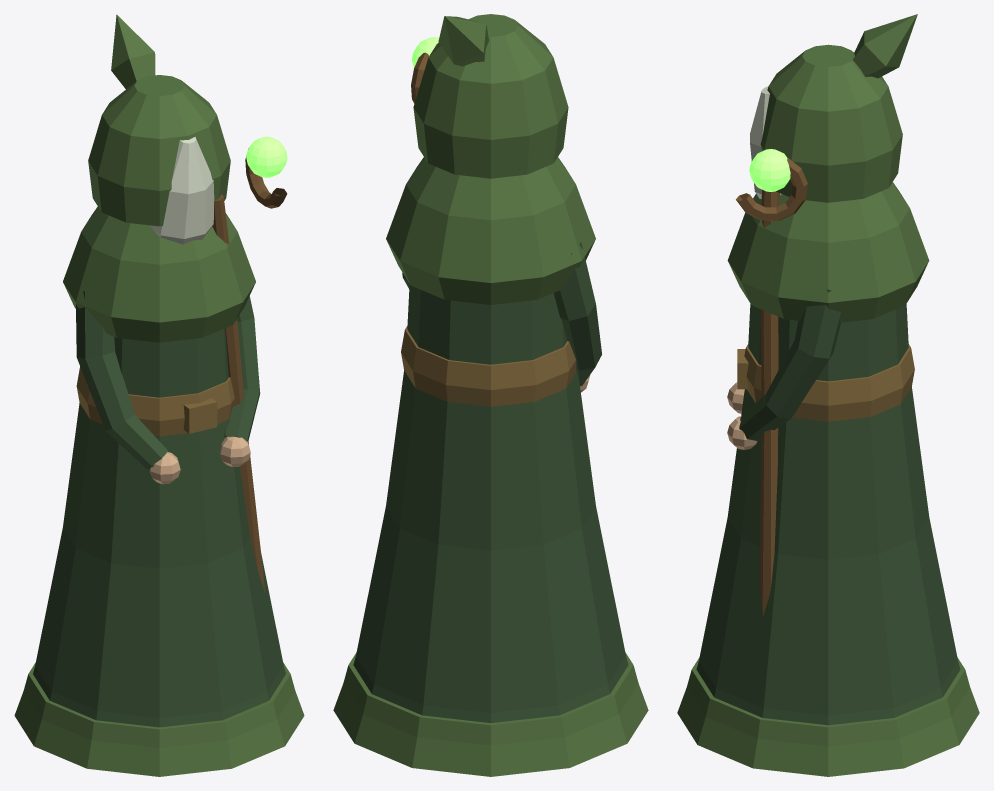
Rendered from elder_outpost_a.glb.
The picture shows the model from 3 angles, left to right: view 1: azimuth 30°, elevation 25°; view 2: azimuth 150°, elevation 25°; view 3: azimuth 270°, elevation 25°; orthographic projection. The views are drawn at different scales.
Visible parts, largest first — view 1: Elder_Robe.001, Elder_Mantle.001, Elder_Hem.001, Elder_Hood.001, Elder_Arm0.001, Elder_Beard.001, Elder_Belt.001, Elder_Staff.001, Elder_Arm1.001, Elder_HoodTip.001, Elder_Orb.001, Elder_Buckle.001 (+3 smaller); view 2: Elder_Robe.001, Elder_Mantle.001, Elder_Hood.001, Elder_Hem.001, Elder_Belt.001, Elder_Arm0.001, Elder_HoodTip.001; view 3: Elder_Robe.001, Elder_Mantle.001, Elder_Hood.001, Elder_Hem.001, Elder_Arm1.001, Elder_Belt.001, Elder_Staff.001, Elder_HoodTip.001, Elder_Crook.001, Elder_Orb.001, Elder_Beard.001.
Boxes of the visible parts, <box> form: Elder_Robe.001: <box>33,328,285,727</box>; Elder_Mantle.001: <box>63,206,255,342</box>; Elder_Hem.001: <box>14,662,304,776</box>; Elder_Hood.001: <box>88,75,230,226</box>; Elder_Arm0.001: <box>75,288,167,469</box>; Elder_Beard.001: <box>150,137,214,244</box>; Elder_Belt.001: <box>76,366,234,436</box>; Elder_Staff.001: <box>212,194,264,591</box>; Elder_Arm1.001: <box>224,296,260,442</box>; Elder_HoodTip.001: <box>111,14,155,88</box>; Elder_Orb.001: <box>246,136,287,177</box>; Elder_Buckle.001: <box>183,398,217,433</box>; Elder_Robe.001: <box>353,284,628,722</box>; Elder_Mantle.001: <box>386,157,595,304</box>; Elder_Hood.001: <box>413,14,568,178</box>; Elder_Hem.001: <box>333,652,648,776</box>; Elder_Belt.001: <box>401,326,576,406</box>; Elder_Arm0.001: <box>553,241,601,386</box>; Elder_HoodTip.001: <box>438,16,488,66</box>; Elder_Robe.001: <box>696,304,960,725</box>; Elder_Mantle.001: <box>727,182,929,322</box>; Elder_Hood.001: <box>760,44,902,202</box>; Elder_Hem.001: <box>677,657,979,776</box>; Elder_Arm1.001: <box>739,289,840,441</box>; Elder_Belt.001: <box>744,344,914,421</box>; Elder_Staff.001: <box>759,189,779,616</box>; Elder_HoodTip.001: <box>852,14,917,78</box>; Elder_Crook.001: <box>736,157,807,220</box>; Elder_Orb.001: <box>749,149,790,191</box>; Elder_Beard.001: <box>750,86,781,198</box>.
Size of the model in its own units: 0.63 by 1.61 by 0.63.
